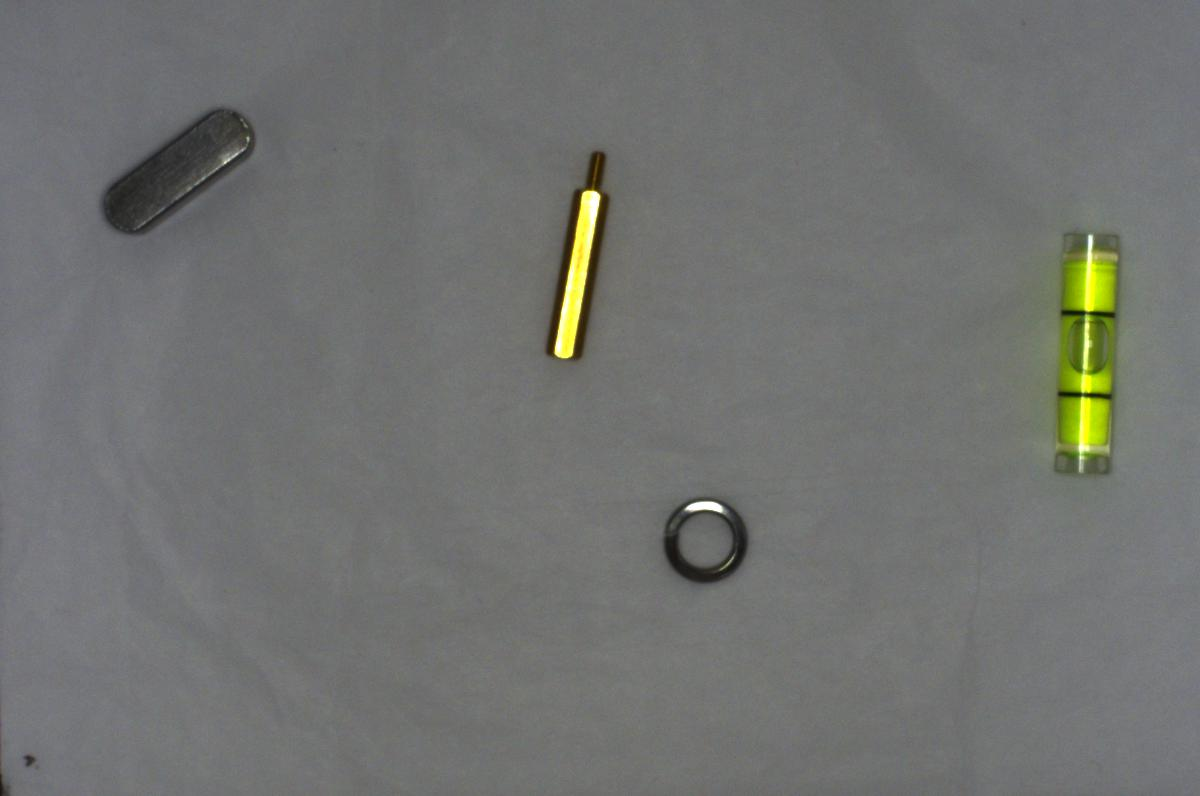Hexagon pillar: (546, 141, 611, 375)
Horizontal bubble: (1044, 221, 1128, 483)
Keybar: (93, 102, 257, 240)
Spring washer: (655, 494, 755, 587)
